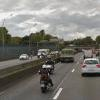Motorcycle: (33, 58, 57, 96)
